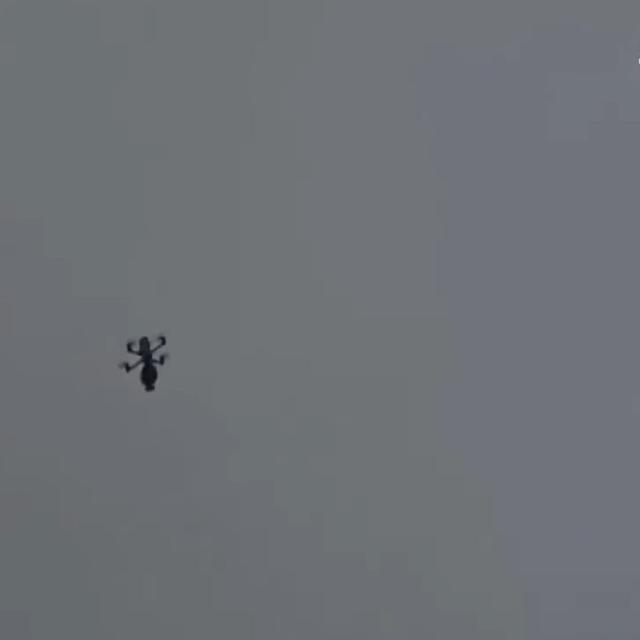drone: (116, 329, 173, 396)
